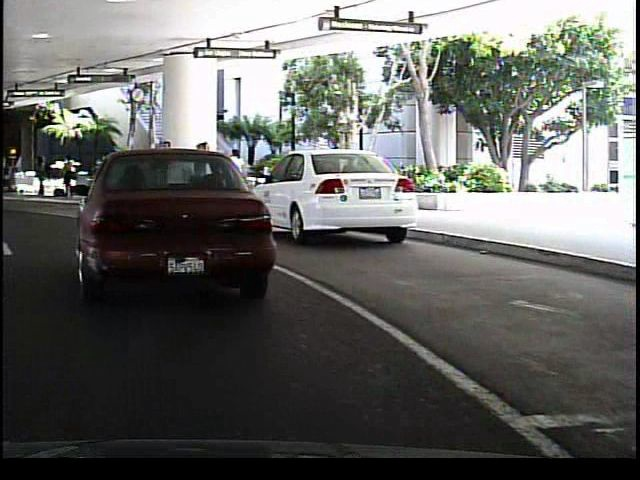person: (186, 136, 212, 211), (151, 135, 176, 207), (220, 145, 249, 202), (32, 148, 50, 201), (57, 155, 78, 196)
